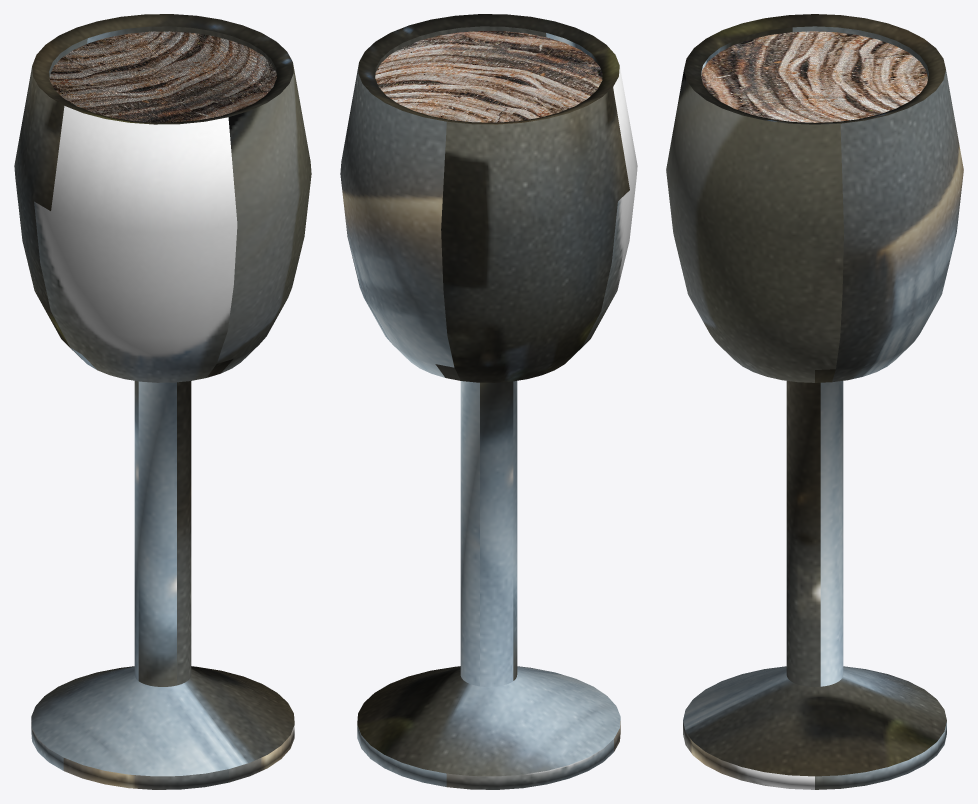
The model's file is cup.obj.
3 views of the same model, side by side, from view 1: azimuth 30°, elevation 25°; view 2: azimuth 150°, elevation 25°; view 3: azimuth 270°, elevation 25° (orthographic).
Visible parts, largest first — view 1: Cylinder, Cylinder.001; view 2: Cylinder, Cylinder.001; view 3: Cylinder, Cylinder.001.
Boxes of the visible parts, <box> form: Cylinder: <box>14,14,311,789</box>; Cylinder.001: <box>49,31,276,122</box>; Cylinder: <box>340,14,637,789</box>; Cylinder.001: <box>375,31,602,122</box>; Cylinder: <box>666,14,963,789</box>; Cylinder.001: <box>701,31,927,122</box>.
Size of the model in its own units: 0.5915 by 1.46 by 0.5915.
2 materials, 2 textured.
